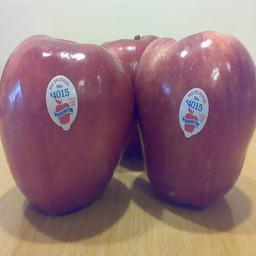apple: (1, 35, 132, 214), (131, 31, 256, 204)
